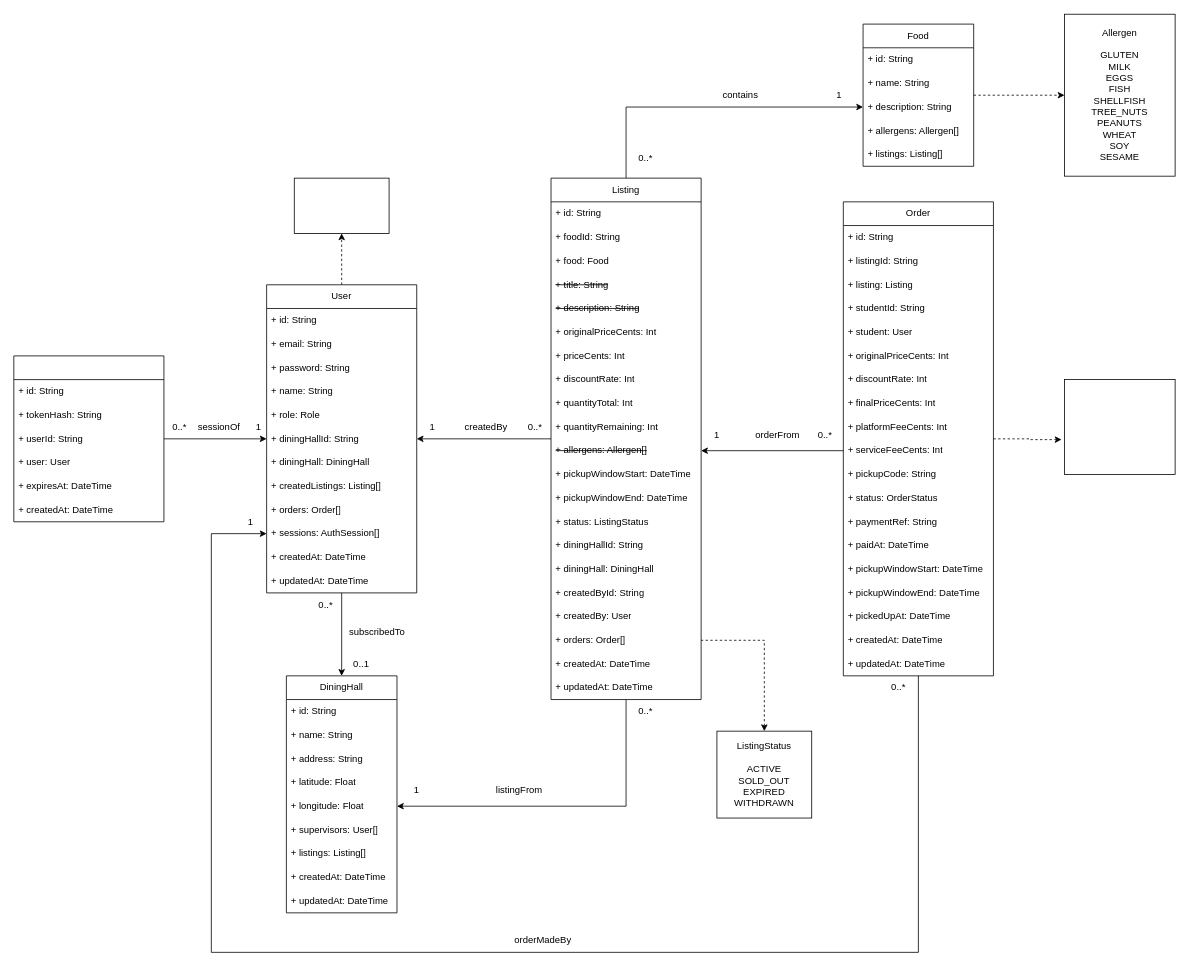
This 1189x972 diagram has some shape labels left out. Each missing label, with the box of its shape:
AuthSession: (13, 355, 164, 522)
OrderStatus PENDING_PAYMENT RESERVED PICKED_UP CANCELLED EXPIRED: (1064, 379, 1175, 474)
Role STUDENT SUPERVISOR: (293, 177, 389, 233)
